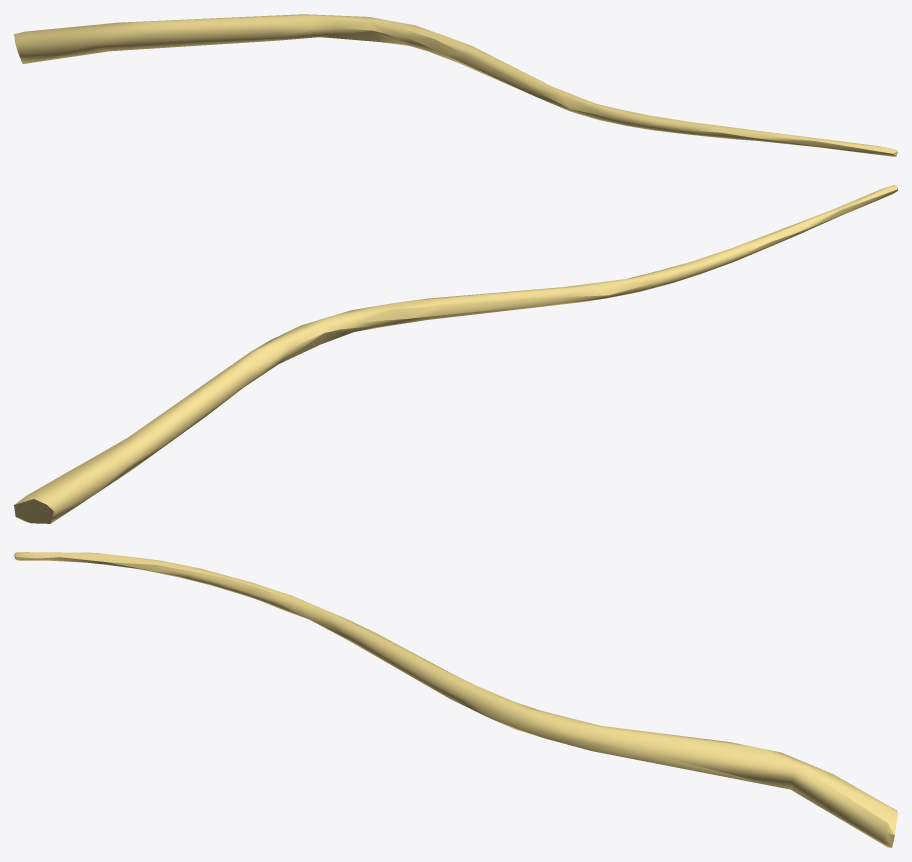
File: fma52583_fj4032.glb
3 views of the same model, one above another, from view 1: azimuth 90°, elevation 25°; view 2: azimuth 150°, elevation 25°; view 3: azimuth 270°, elevation 25° (orthographic). The views are drawn at different scales.
Parts seen in each view (by area): view 1: FMA52583_FJ4032; view 2: FMA52583_FJ4032; view 3: FMA52583_FJ4032.
Boxes of the visible parts, <box> form: FMA52583_FJ4032: <box>14,14,897,156</box>; FMA52583_FJ4032: <box>14,185,897,523</box>; FMA52583_FJ4032: <box>14,552,897,847</box>.
Bounding box in the file's own units: 0.0112 × 0.00281 × 0.021.
